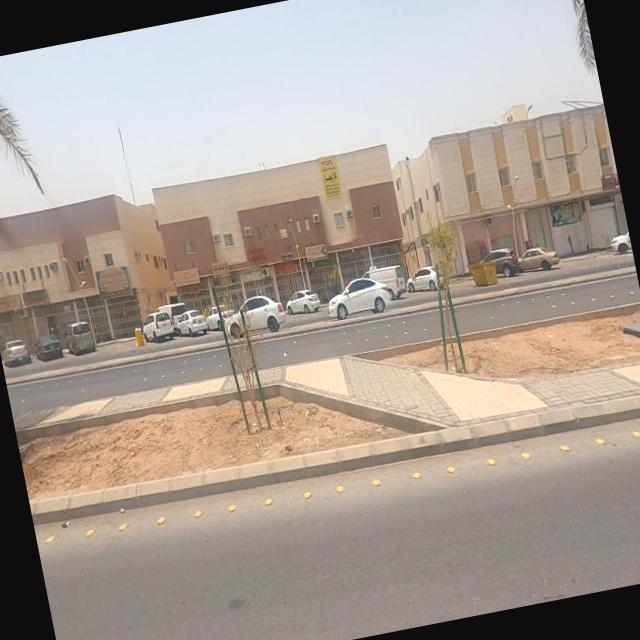debris: (0, 260, 75, 333), (0, 260, 53, 346)
